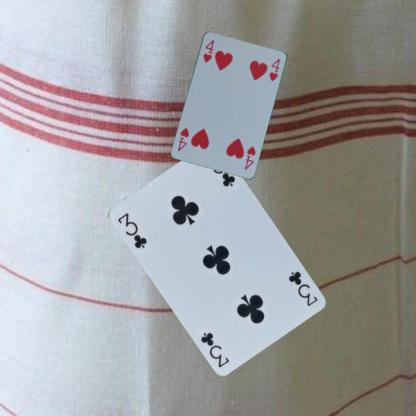3c: (115, 210, 148, 250), (286, 269, 320, 307)
4h: (200, 37, 216, 64), (242, 144, 256, 170)
